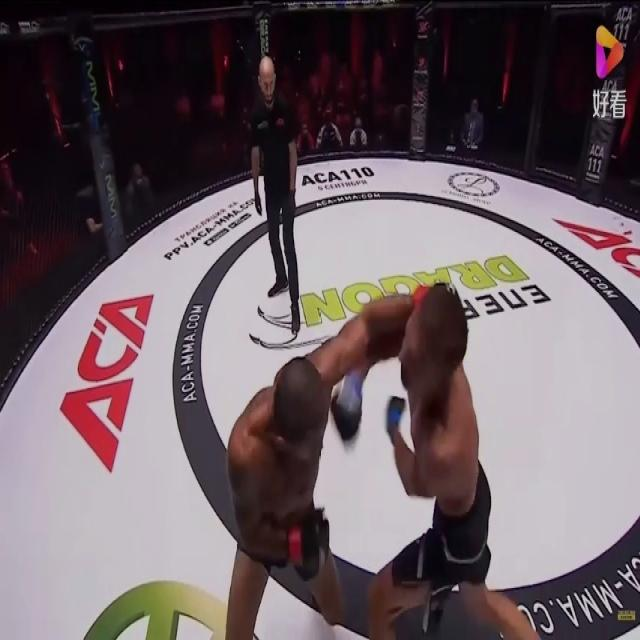fight: (219, 282, 550, 639)
non-fight: (238, 49, 312, 343)
